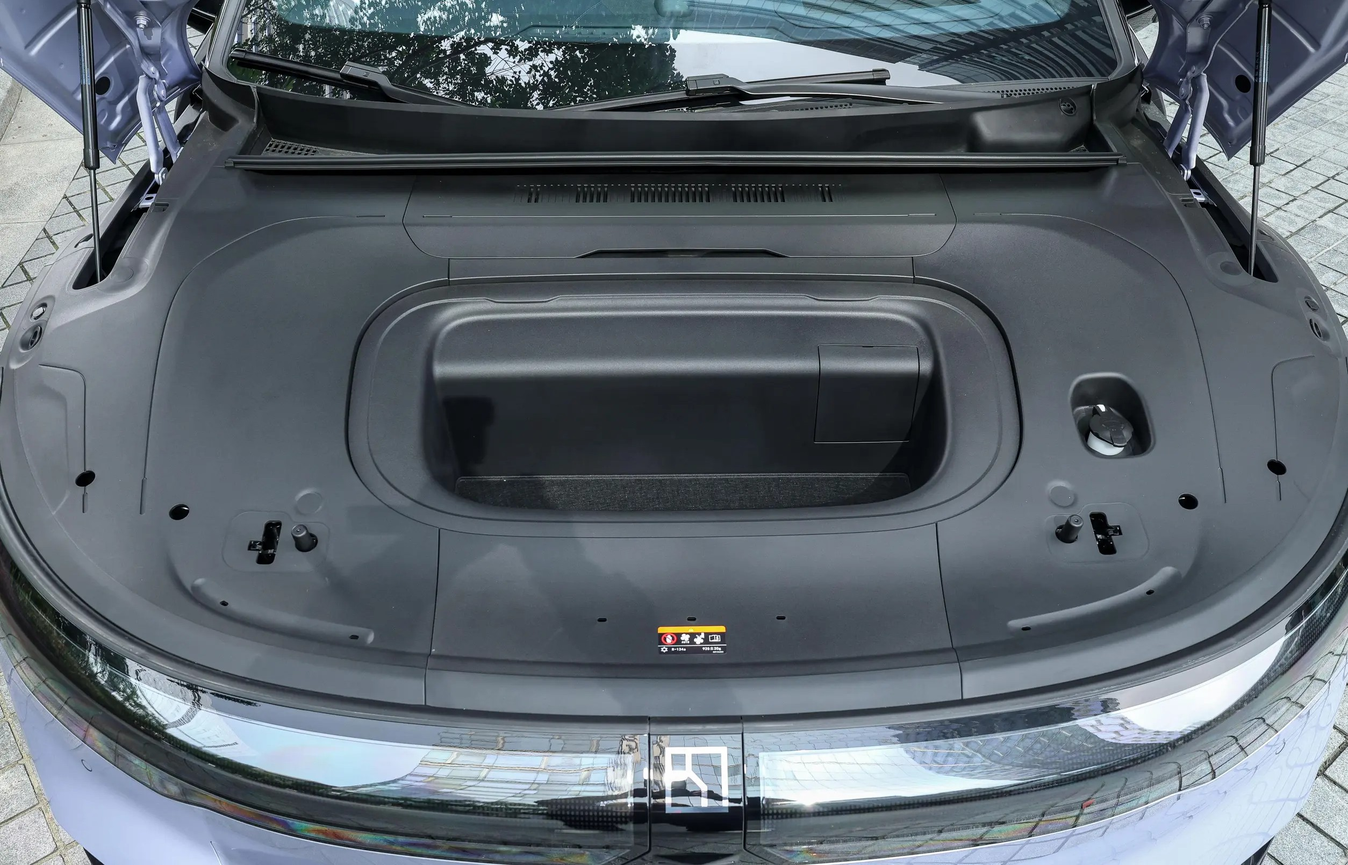ZEEKR: (665, 747, 728, 812)
